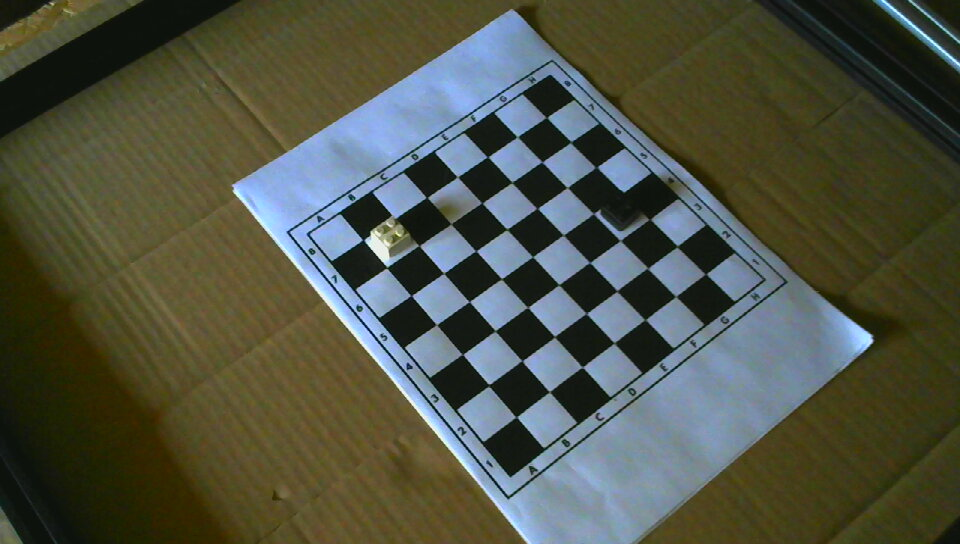bp: (600, 194, 642, 231)
wp: (369, 216, 413, 261)
